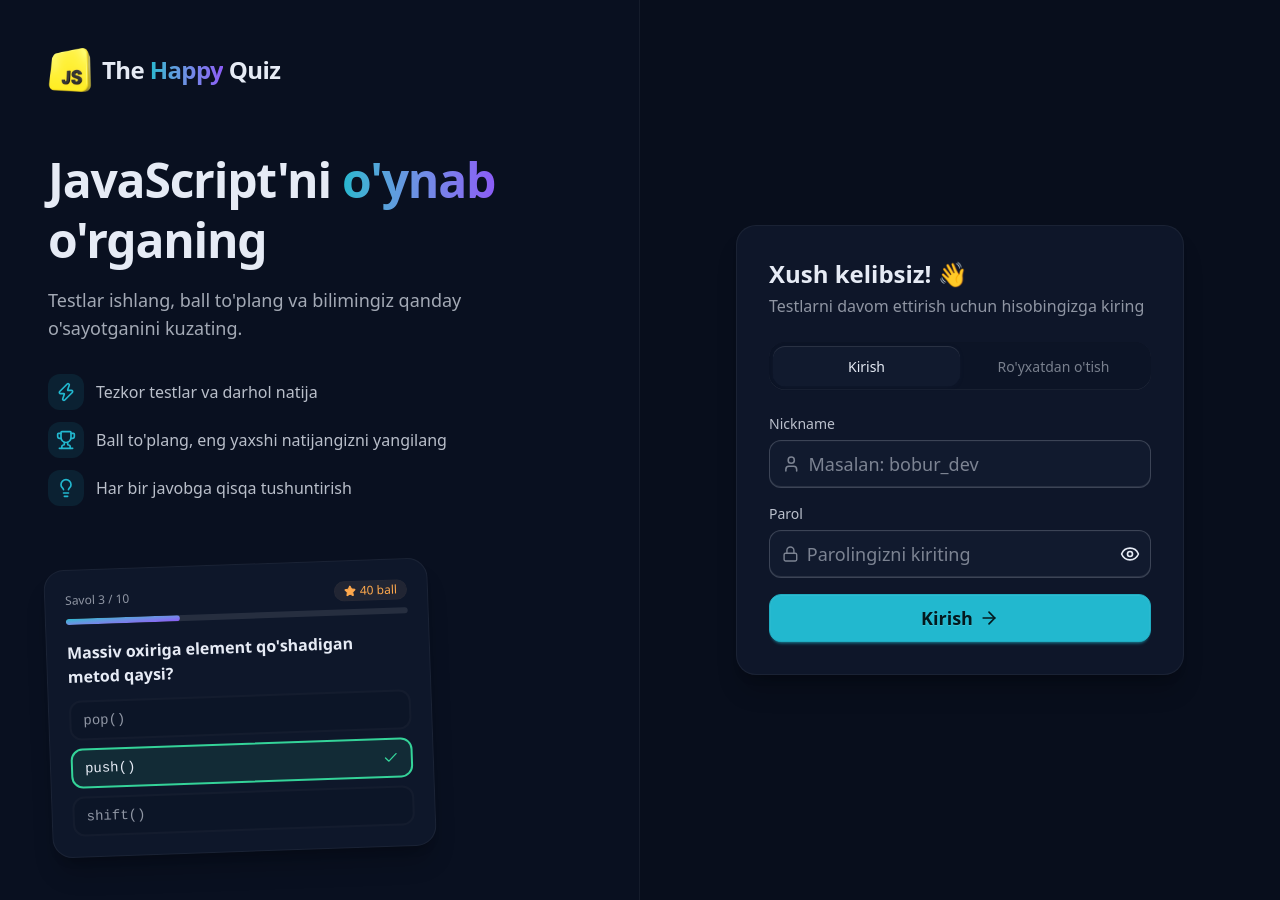
Test case: o'quvchi › ro'yxatdan o'tishda parol qoidalarini ko'rsatadi va xatoni chiqaradi
The width and height of the screenshot is (1280, 900).
Click the tab "Ro'yxatdan o'tish" at (1054, 366), box [960, 346, 1147, 386]
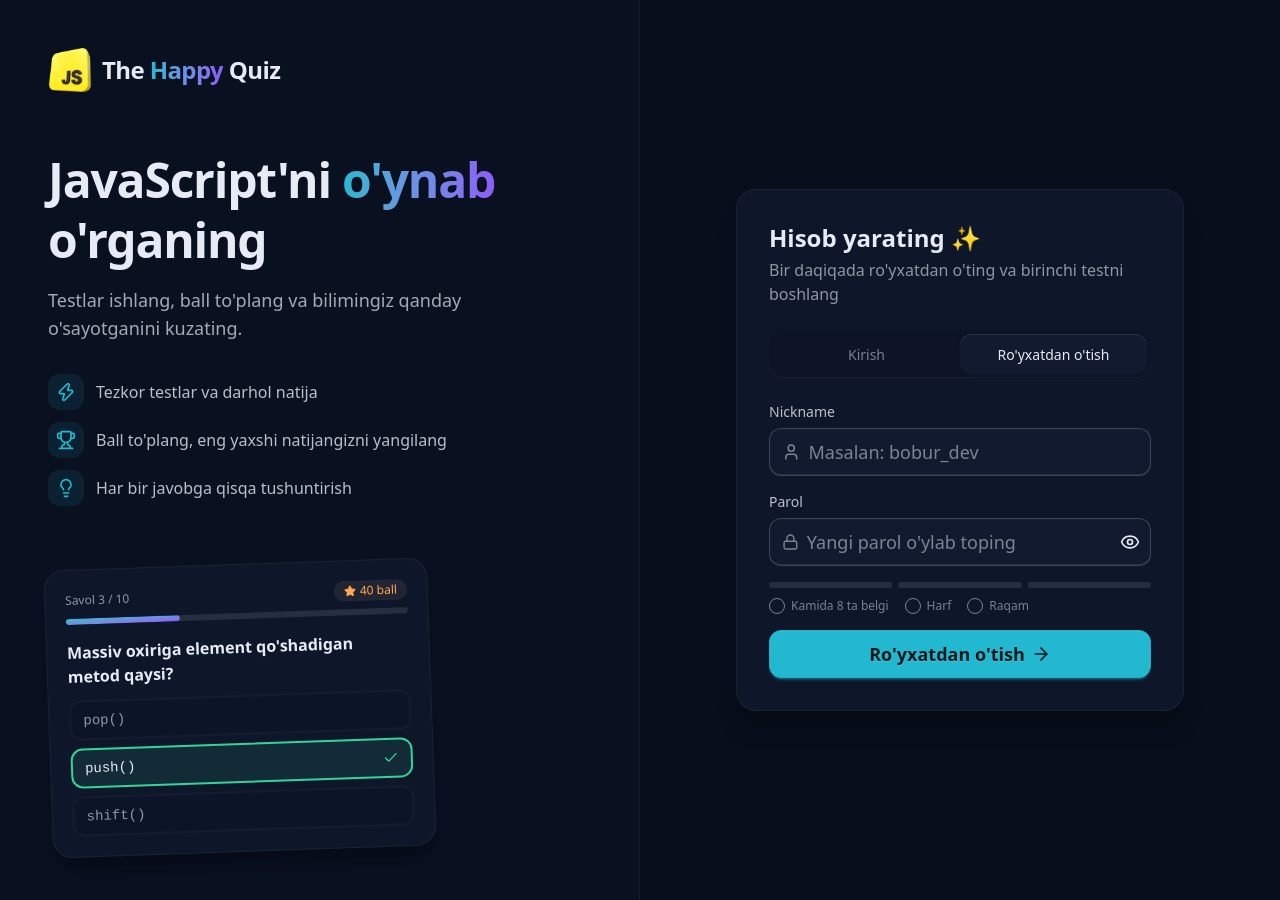
Check: the list item "Kamida 8 ta belgi" is shown, box [769, 598, 889, 614]
Type "ali" into the field labelled "Nickname" at (973, 452), box [808, 429, 1138, 475]
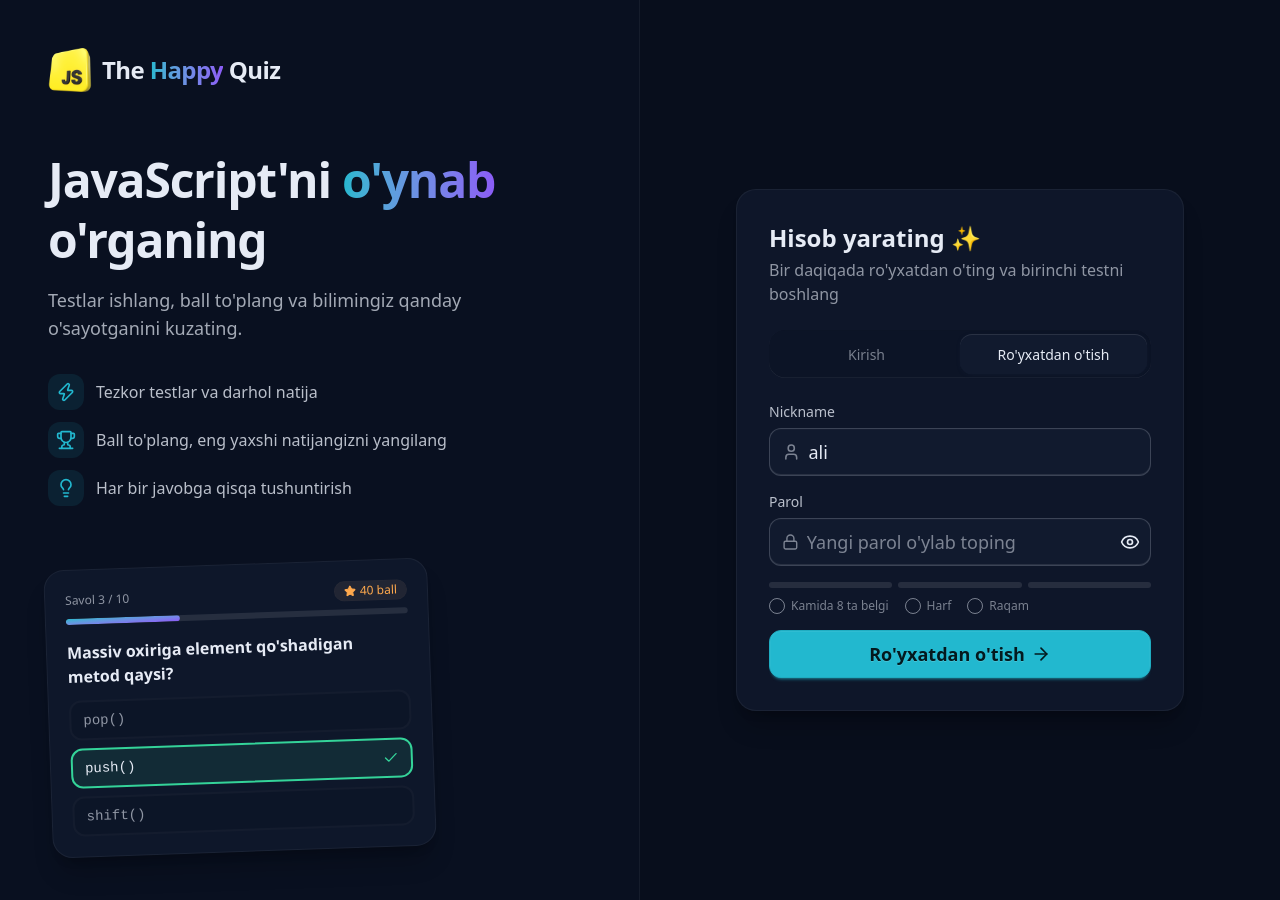
Type "parol1234" into the password field labelled "Parol" at (956, 542), box [807, 519, 1106, 565]
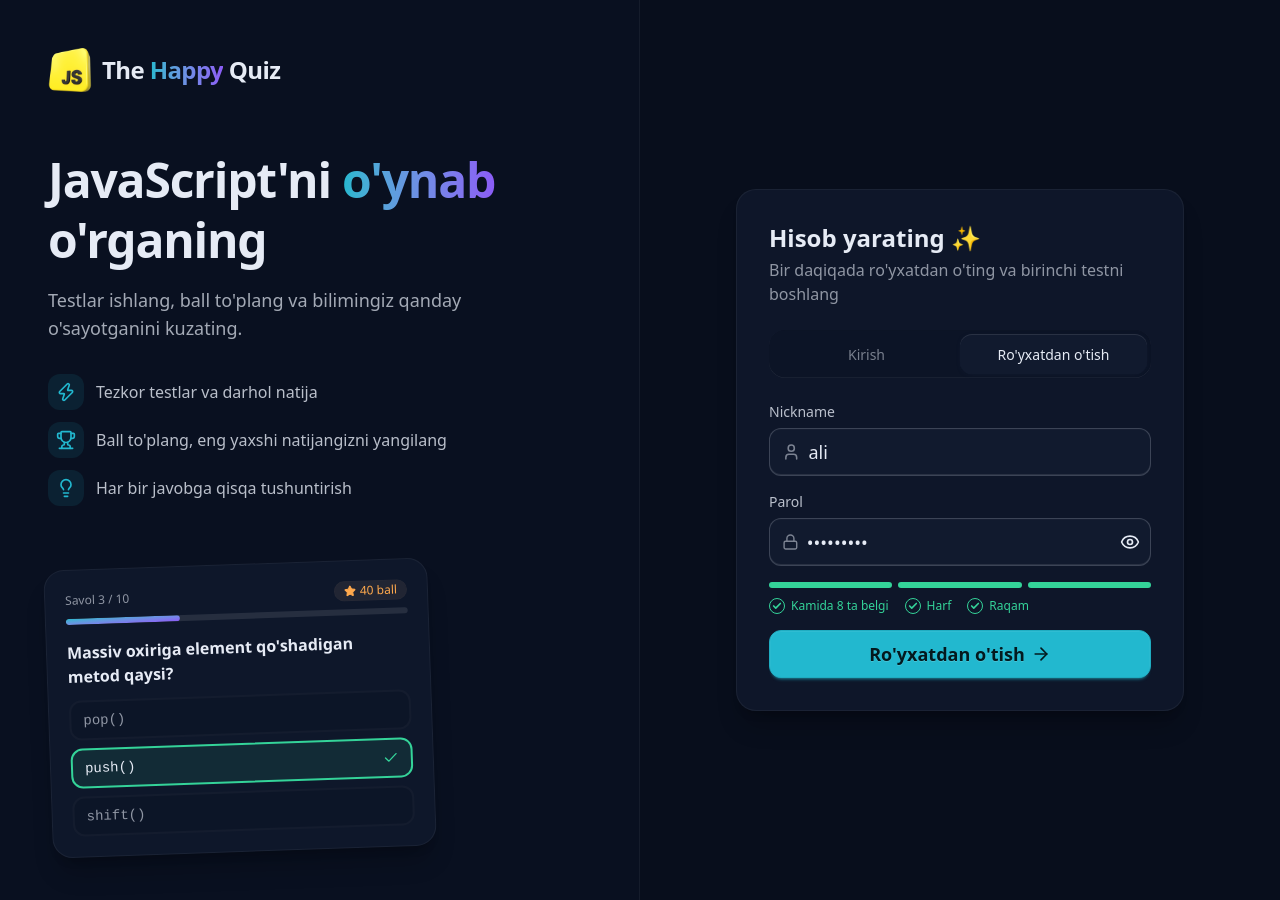
Click the button "Ro'yxatdan o'tish" at (960, 654), box [769, 630, 1151, 678]
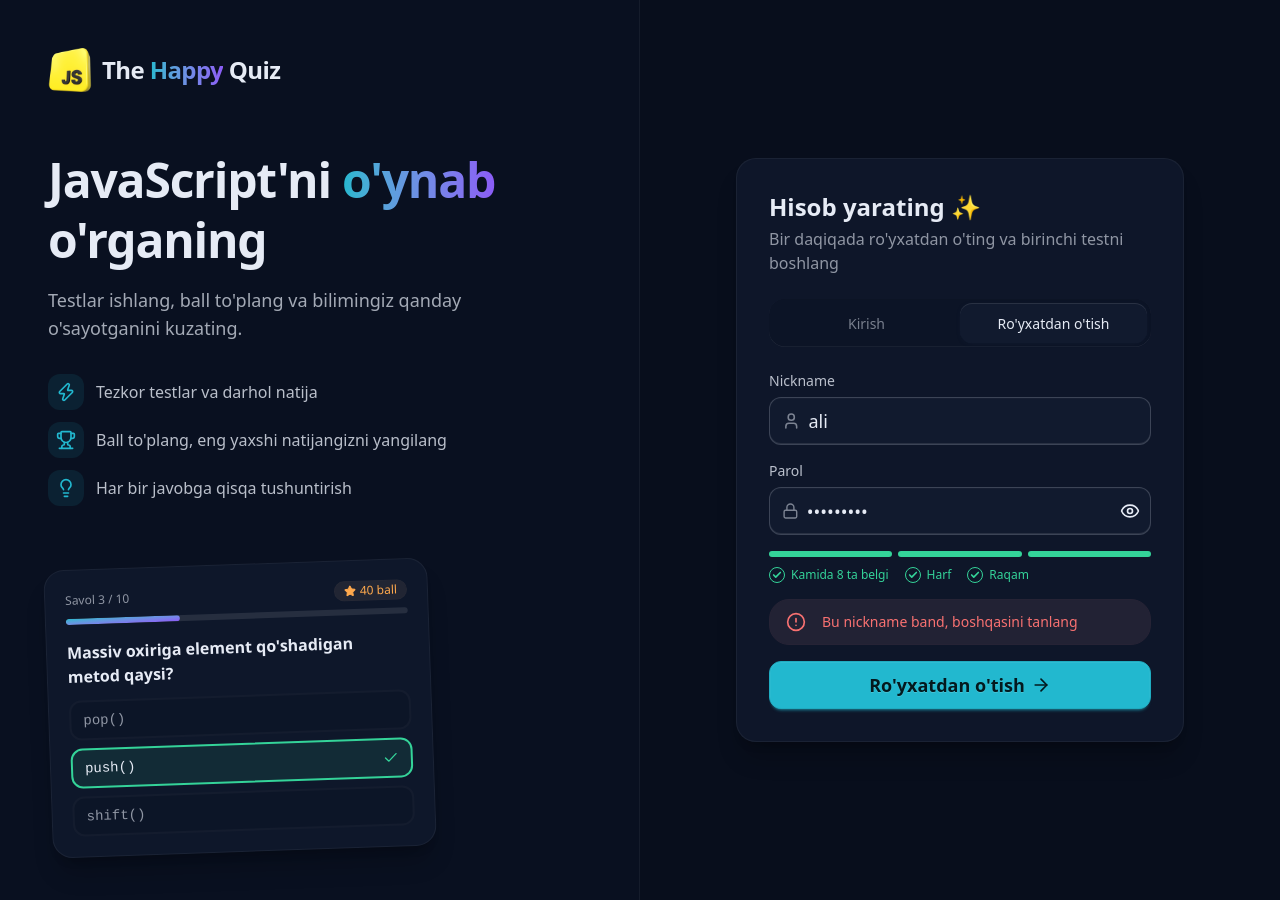
Check: the message shows "Bu nickname band", box [822, 612, 1078, 631]
